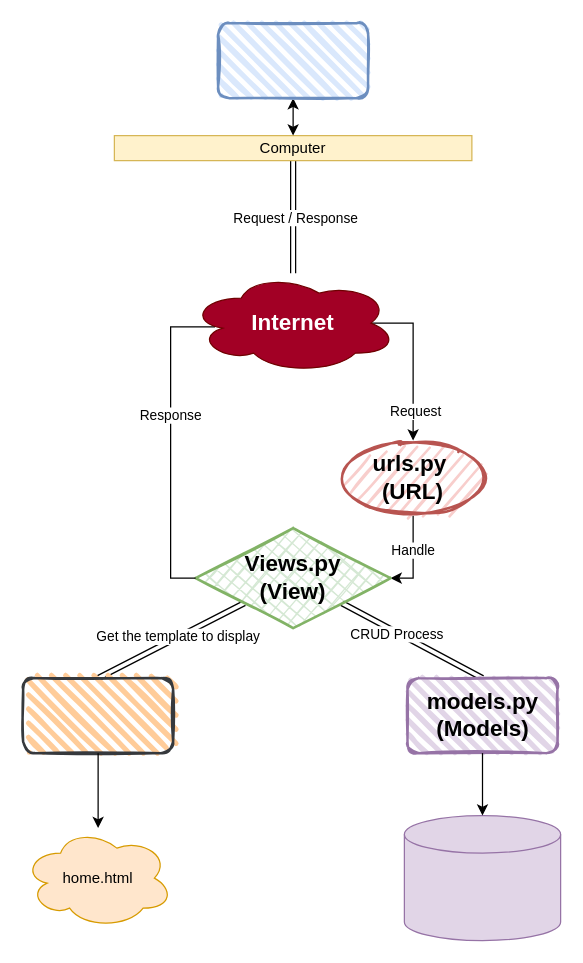
Image size: 583x963. Some labels were removed from this diagram. The centre of each missing label's shape, as x and y in pixels:
DATABASE: point (482, 877)
Template.py (Templates): point (97, 715)
User: point (292, 60)
